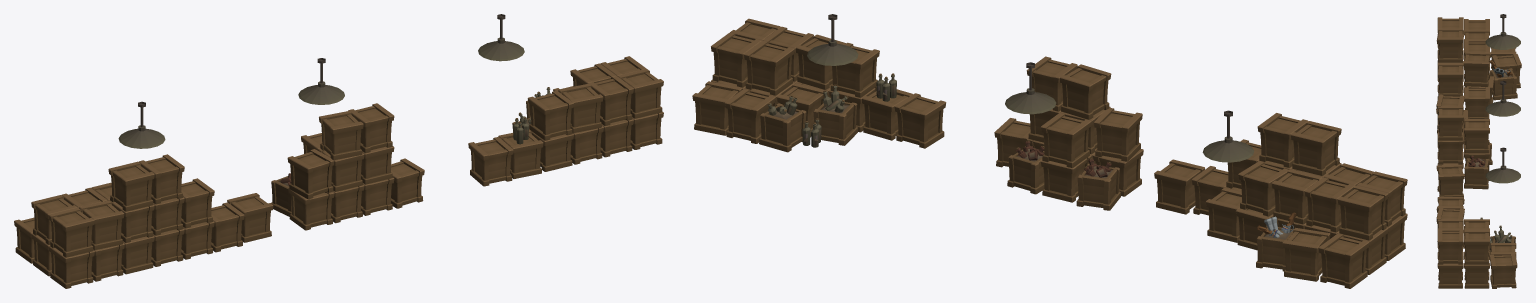
File: SM_Setdressing_Level1_BoxGroup1.fbx
The picture shows the model from 3 angles, left to right: view 1: azimuth 30°, elevation 25°; view 2: azimuth 150°, elevation 25°; view 3: azimuth 270°, elevation 25°; orthographic projection. The views are drawn at different scales.
Visible parts, largest first — view 1: SM_Setdressing_Level1_BoxGroup1; view 2: SM_Setdressing_Level1_BoxGroup1; view 3: SM_Setdressing_Level1_BoxGroup1.
Part boxes in pixels (box(x1,y1,x2,y2)): SM_Setdressing_Level1_BoxGroup1: box(14, 14, 663, 288); SM_Setdressing_Level1_BoxGroup1: box(692, 14, 1407, 288); SM_Setdressing_Level1_BoxGroup1: box(1436, 14, 1521, 288).
Size of the model in its own units: 2003 by 326 by 400.
